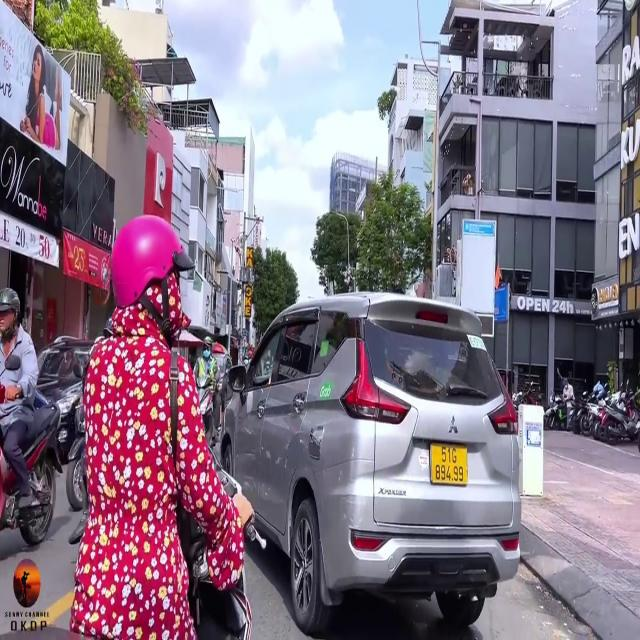bien_vang: (432, 437, 470, 492)
